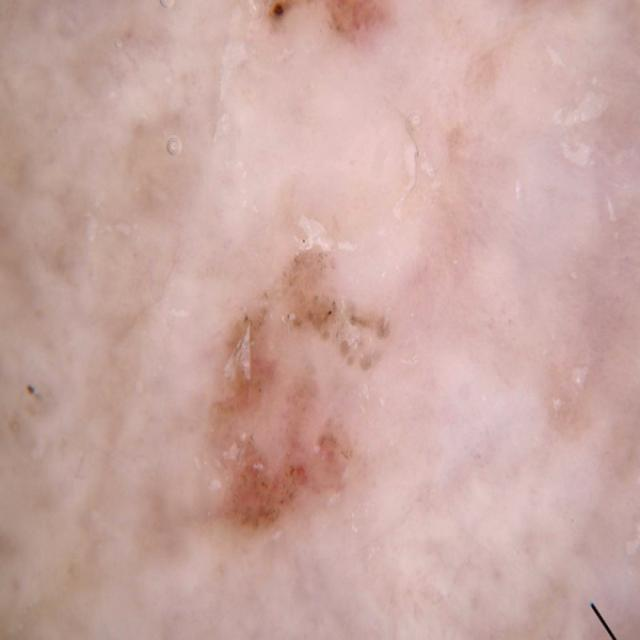Skin-Cancer Squamous cell carcinoma: (36, 48, 640, 597)
